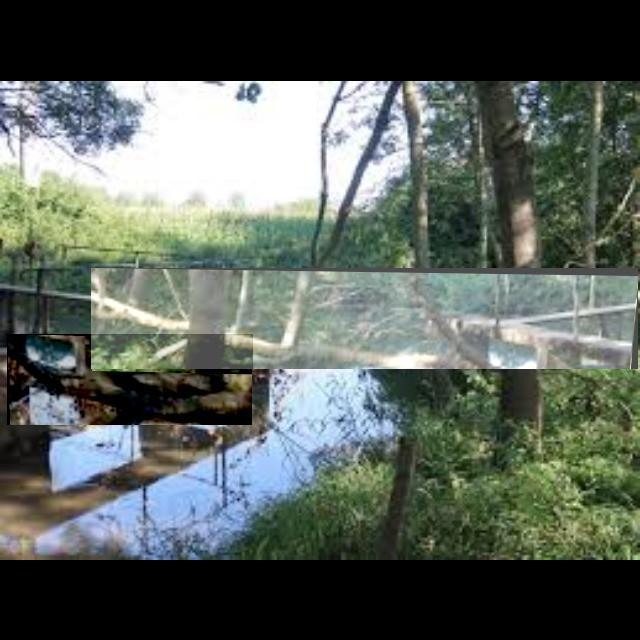fallen_tree: (91, 268, 639, 370), (7, 334, 253, 426)
